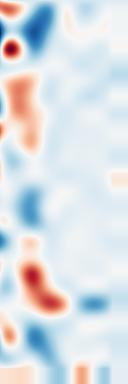filament: (16, 249, 76, 319)
